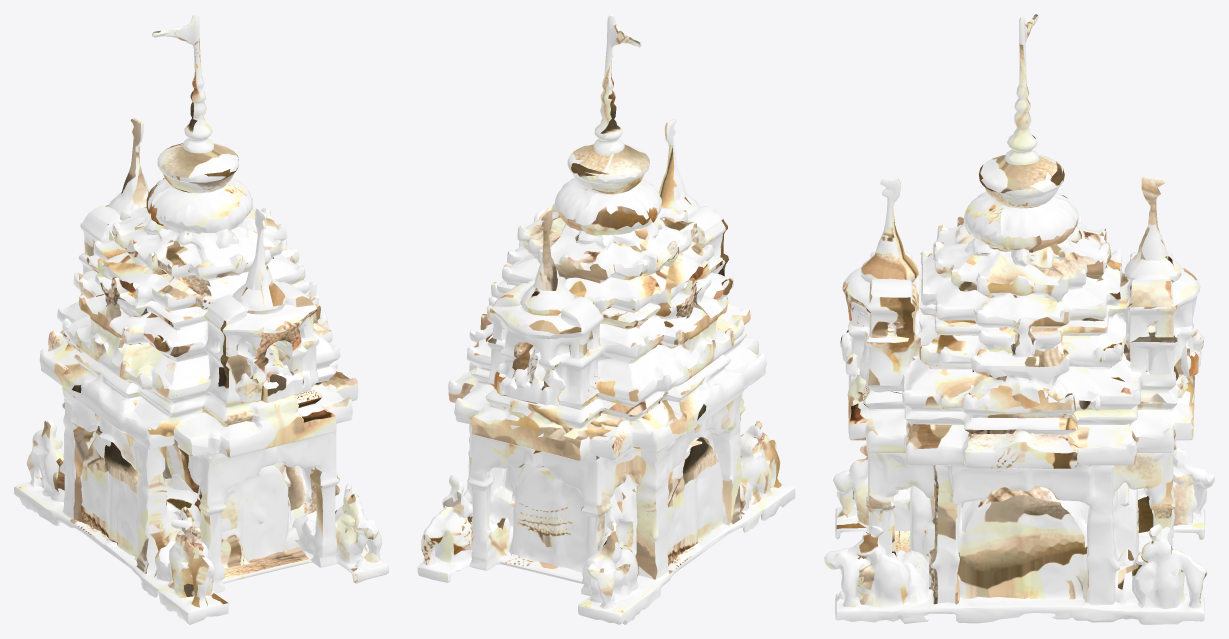
3 views of the same model, side by side, from view 1: azimuth 30°, elevation 25°; view 2: azimuth 150°, elevation 25°; view 3: azimuth 270°, elevation 25° (orthographic). The views are drawn at different scales.
Visible parts, largest first — view 1: textured_mesh; view 2: textured_mesh; view 3: textured_mesh.
Part boxes in pixels (<box>): textured_mesh: <box>14,14,388,624</box>; textured_mesh: <box>417,14,795,624</box>; textured_mesh: <box>824,14,1214,624</box>.
Size of the model in its own units: 4.22 by 9.59 by 6.11.
